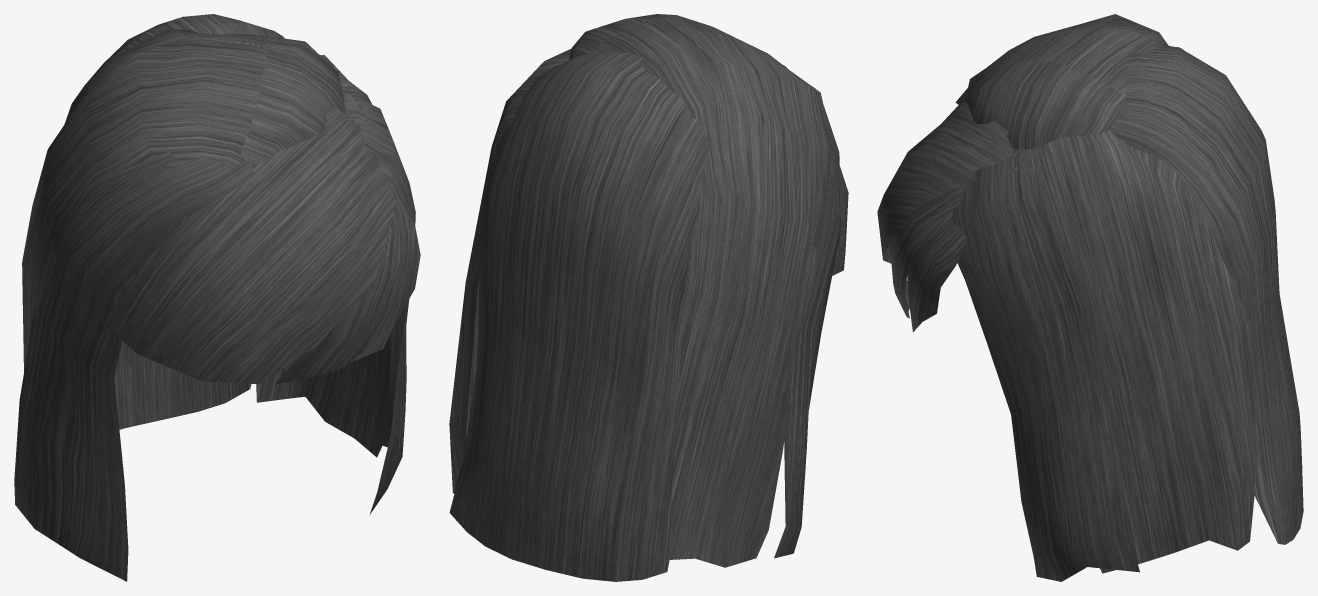
Rendered from userHr_3c.obj.
3 views of the same model, side by side, from view 1: azimuth 30°, elevation 25°; view 2: azimuth 150°, elevation 25°; view 3: azimuth 270°, elevation 25° (orthographic).
Parts seen in each view (by area): view 1: userHr_3c.obj; view 2: userHr_3c.obj; view 3: userHr_3c.obj.
Boxes of the visible parts, x1=… form: userHr_3c.obj: x1=14, y1=14, x2=420, y2=581; userHr_3c.obj: x1=449, y1=14, x2=848, y2=581; userHr_3c.obj: x1=877, y1=14, x2=1303, y2=581.
Size of the model in its own units: 3.18 by 4.46 by 3.49.
